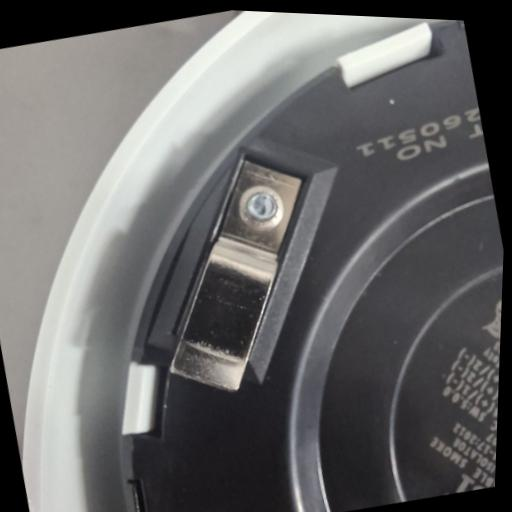yaysiz: (129, 143, 343, 408)
